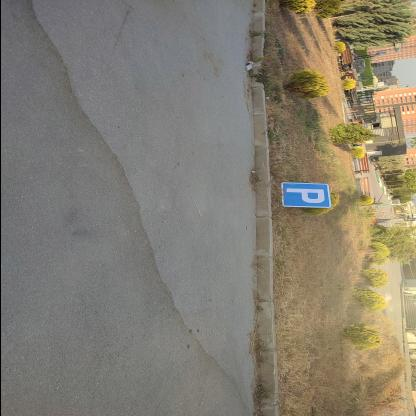Parking-Sign: (281, 183, 333, 209)
